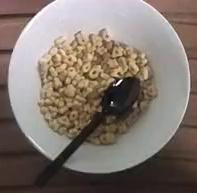cereal: (38, 28, 156, 143)
